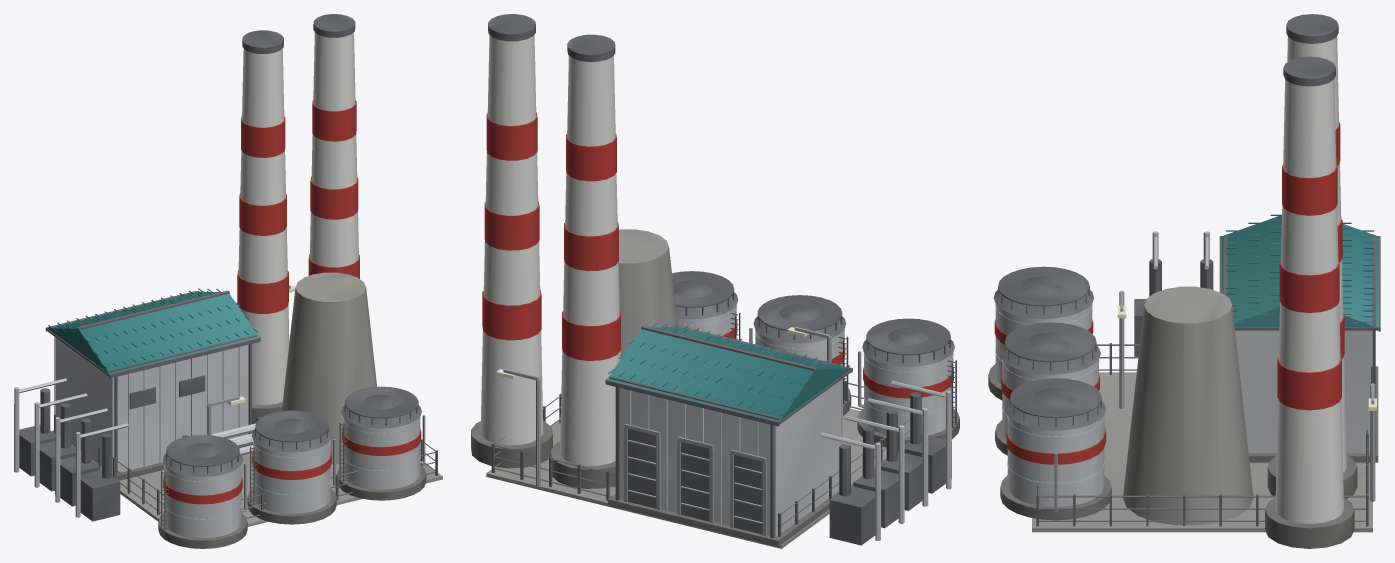
The model's file is Power_P3.fbx.
3 renders of one model, left to right at view 1: azimuth 30°, elevation 25°; view 2: azimuth 150°, elevation 25°; view 3: azimuth 270°, elevation 25°, orthographic. The views are drawn at different scales.
Parts seen in each view (by area): view 1: Power.Hall, Power.Stack0, Power.Stack1, Power.CoolingTowers, Power.Tank2, Power.Tank0, Power.Tank1, Power.Switchyard, Power.Yard, Power.Fence, Power.Pipes; view 2: Power.Hall, Power.Stack1, Power.Stack0, Power.Switchyard, Power.Tank0, Power.CoolingTowers, Power.Tank1, Power.Tank2, Power.Yard, Power.Fence, Power.Lamp1; view 3: Power.Stack1, Power.CoolingTowers, Power.Hall, Power.Tank2, Power.Yard, Power.Tank0, Power.Tank1, Power.Stack0, Power.Fence, Power.Switchyard, Power.Lamp0, Power.Lamp1.
Boxes of the visible parts, x1,y1,x2,y2 form: Power.Hall: (45, 288, 260, 480); Power.Stack0: (237, 30, 289, 423); Power.Stack1: (308, 14, 359, 278); Power.CoolingTowers: (282, 272, 376, 464); Power.Tank2: (337, 386, 426, 500); Power.Tank0: (158, 435, 247, 548); Power.Tank1: (247, 410, 336, 524); Power.Switchyard: (14, 378, 128, 521); Power.Yard: (119, 432, 442, 526); Power.Fence: (54, 414, 437, 518); Power.Pipes: (182, 417, 260, 455); Power.Hall: (605, 323, 852, 546); Power.Stack1: (471, 14, 552, 468); Power.Stack0: (550, 34, 620, 488); Power.Switchyard: (820, 381, 951, 545); Power.Tank0: (857, 318, 959, 447); Power.CoolingTowers: (618, 229, 677, 358); Power.Tank1: (749, 295, 851, 415); Power.Tank2: (672, 271, 740, 340); Power.Yard: (486, 408, 886, 548); Power.Fence: (491, 380, 910, 536); Power.Lamp1: (496, 369, 540, 486); Power.Stack1: (1265, 56, 1354, 548); Power.CoolingTowers: (1123, 286, 1253, 525); Power.Hall: (1219, 214, 1380, 462); Power.Tank2: (1000, 378, 1111, 520); Power.Yard: (1032, 372, 1372, 532); Power.Tank0: (988, 266, 1099, 400); Power.Tank1: (995, 322, 1106, 455); Power.Stack0: (1267, 14, 1357, 498); Power.Fence: (1036, 343, 1368, 526); Power.Switchyard: (1134, 231, 1213, 356); Power.Lamp0: (1117, 291, 1126, 409); Power.Lamp1: (1368, 383, 1376, 501).
Bounding box in the file's own units: 3553 × 3621 × 2761.
